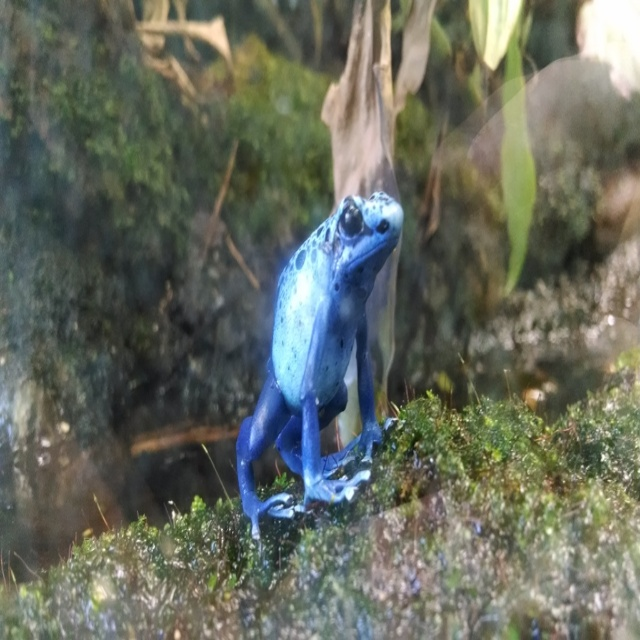Frog: (236, 191, 403, 540)
